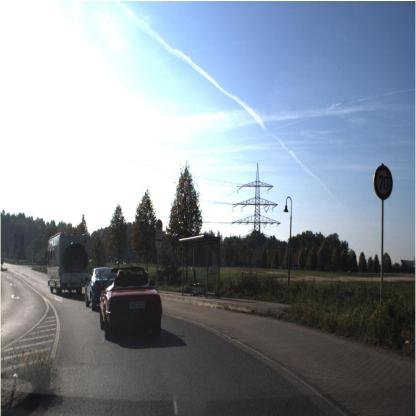prohibitory: (370, 164, 396, 200)
